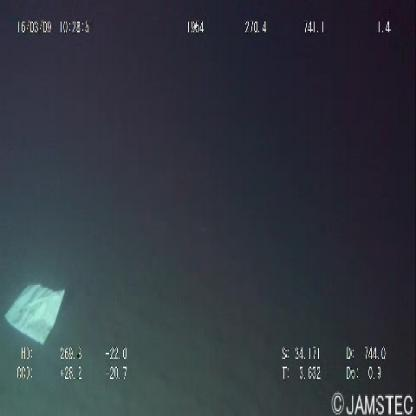Rác: (1, 276, 69, 350)
